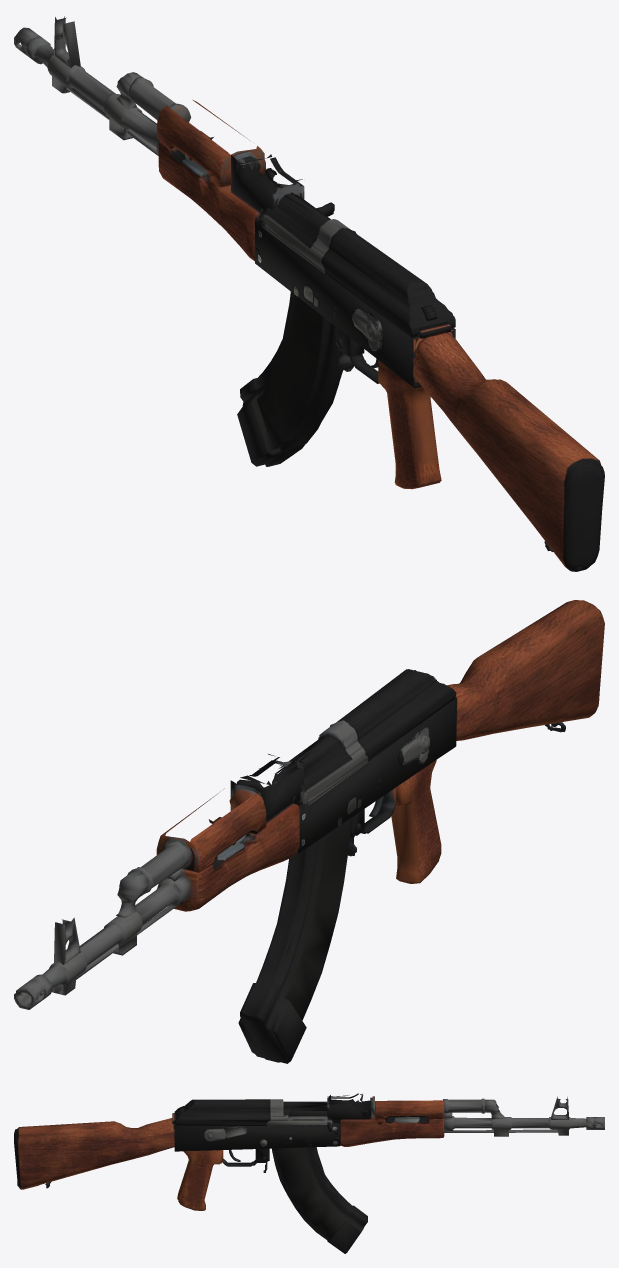
3 renders of one model, top to bottom at view 1: azimuth 30°, elevation 25°; view 2: azimuth 150°, elevation 25°; view 3: azimuth 270°, elevation 25°, orthographic. The views are drawn at different scales.
Visible parts, largest first — view 1: furniture, body, magazine; view 2: furniture, body, magazine; view 3: furniture, body, magazine.
Part boxes in pixels (x1=…): furniture: x1=157, y1=100, x2=604, y2=571; body: x1=14, y1=16, x2=455, y2=386; magazine: x1=237, y1=291, x2=342, y2=466; furniture: x1=156, y1=600, x2=604, y2=911; body: x1=14, y1=669, x2=457, y2=1009; magazine: x1=238, y1=821, x2=351, y2=1063; furniture: x1=14, y1=1093, x2=447, y2=1210; body: x1=173, y1=1095, x2=604, y2=1172; magazine: x1=272, y1=1147, x2=367, y2=1253.
Size of the model in its own units: 0.0753 by 0.2717 by 0.9382.
2 materials, 2 textured.
